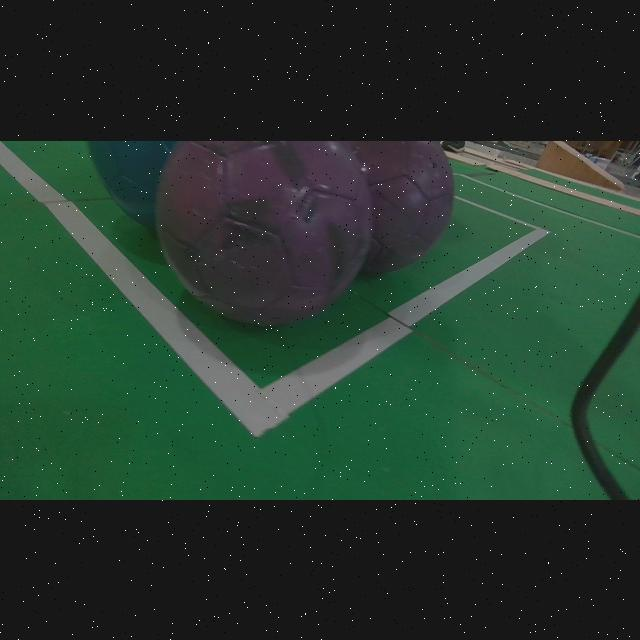B: (87, 140, 177, 228)
P: (156, 140, 372, 325), (347, 140, 454, 273)
